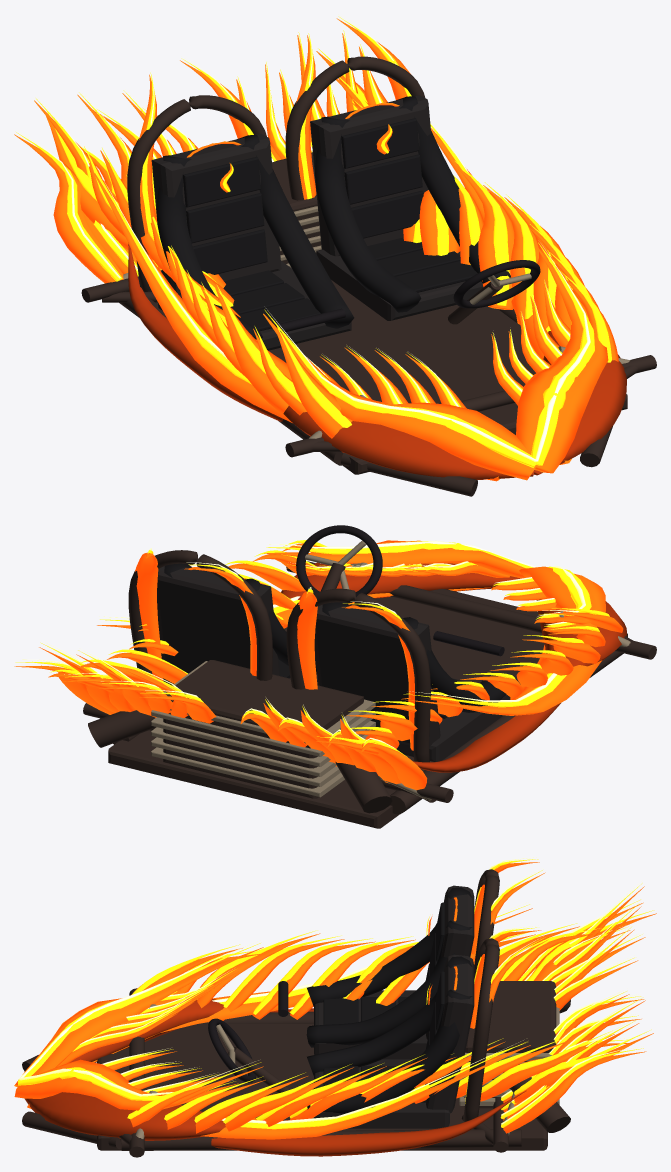
File: A031-FLAME_KART_Body_Part_01_0907_2f6c6256.glb
3 views of the same model, one above another, from view 1: azimuth 30°, elevation 25°; view 2: azimuth 150°, elevation 25°; view 3: azimuth 270°, elevation 25° (orthographic). The views are drawn at different scales.
Visible parts, largest first — view 1: FLAME_KART_Body_Part_01; view 2: FLAME_KART_Body_Part_01; view 3: FLAME_KART_Body_Part_01.
Part boxes in pixels (x1=…): FLAME_KART_Body_Part_01: x1=14, y1=16, x2=656, y2=496; FLAME_KART_Body_Part_01: x1=14, y1=525, x2=656, y2=828; FLAME_KART_Body_Part_01: x1=14, y1=857, x2=656, y2=1157.
Size of the model in its own units: 1.1 by 0.6717 by 1.89.
